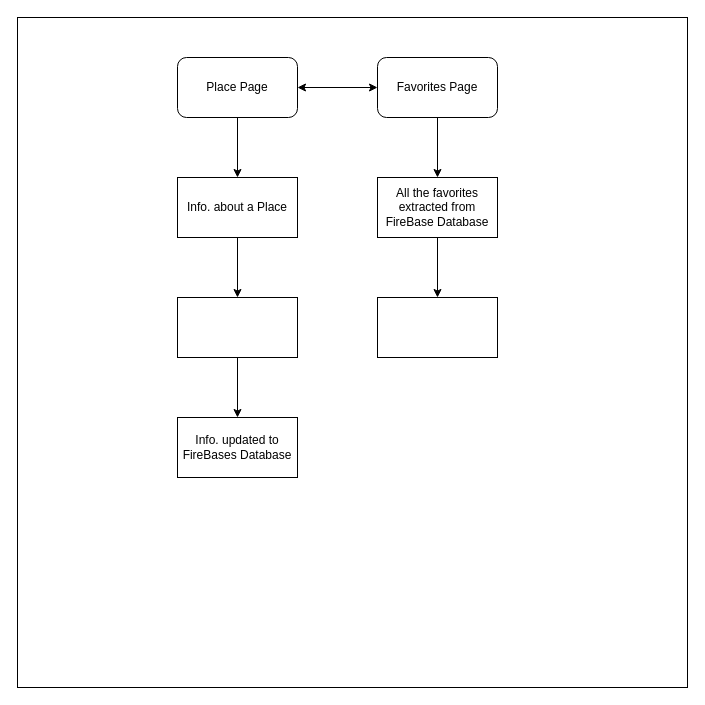
Image size: 705x705. Some labels were removed from this diagram. The shapes that lost their labels are listed below. From the top down, each one's box as (x1, y1, x2, y2) in pixels, then its label:
(176, 296, 298, 358): Add/Remove to favorites
(376, 296, 498, 358): Shown on the favorites page as a list
